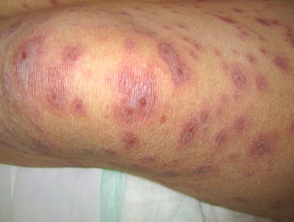SJS-TEN: (0, 0, 294, 189)
